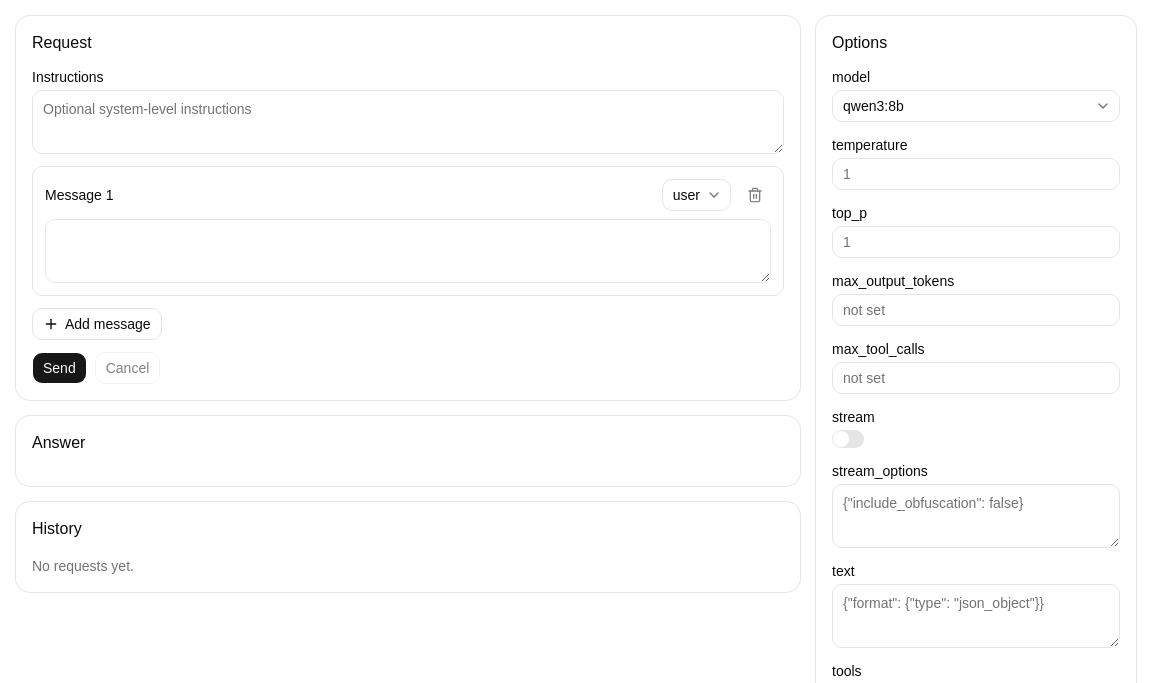
multiple messages with roles are sent as an input list
This screenshot has width=1152, height=683.
Expected: the dropdown named "model" shows "qwen3:8b", [832,90,1120,122]
Type "Hello" into the text box labelled "Message 1" at (408, 251), box [45,219,771,283]
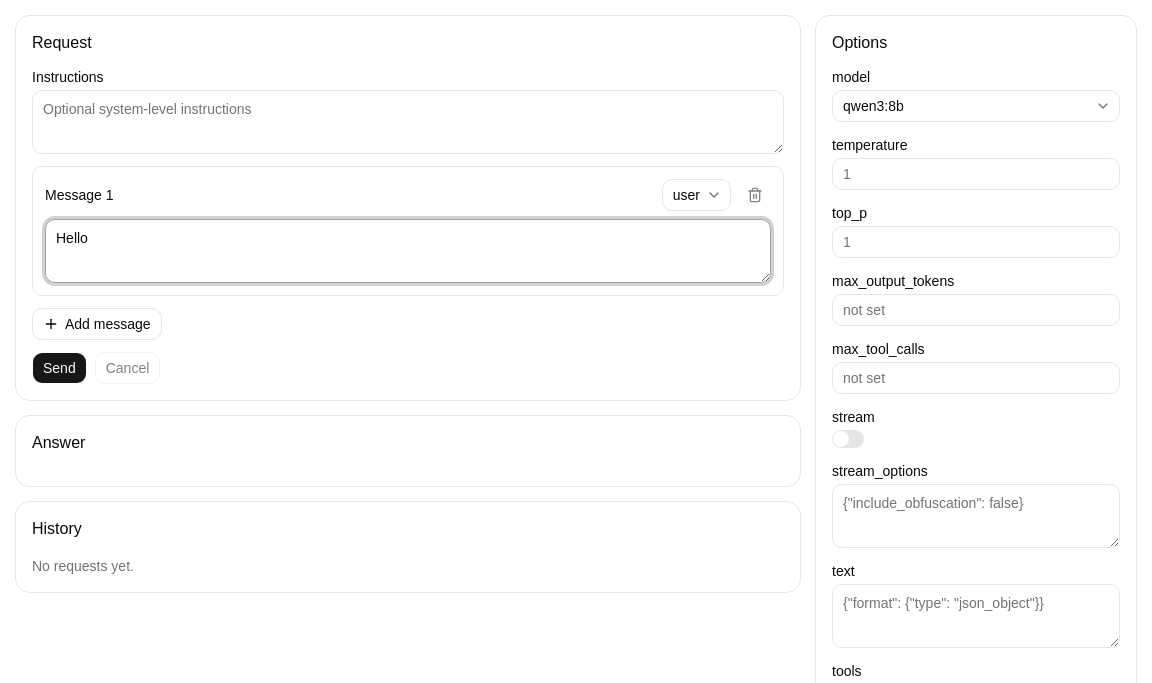
Click the button "Add message" at (97, 324), box [32,308,162,340]
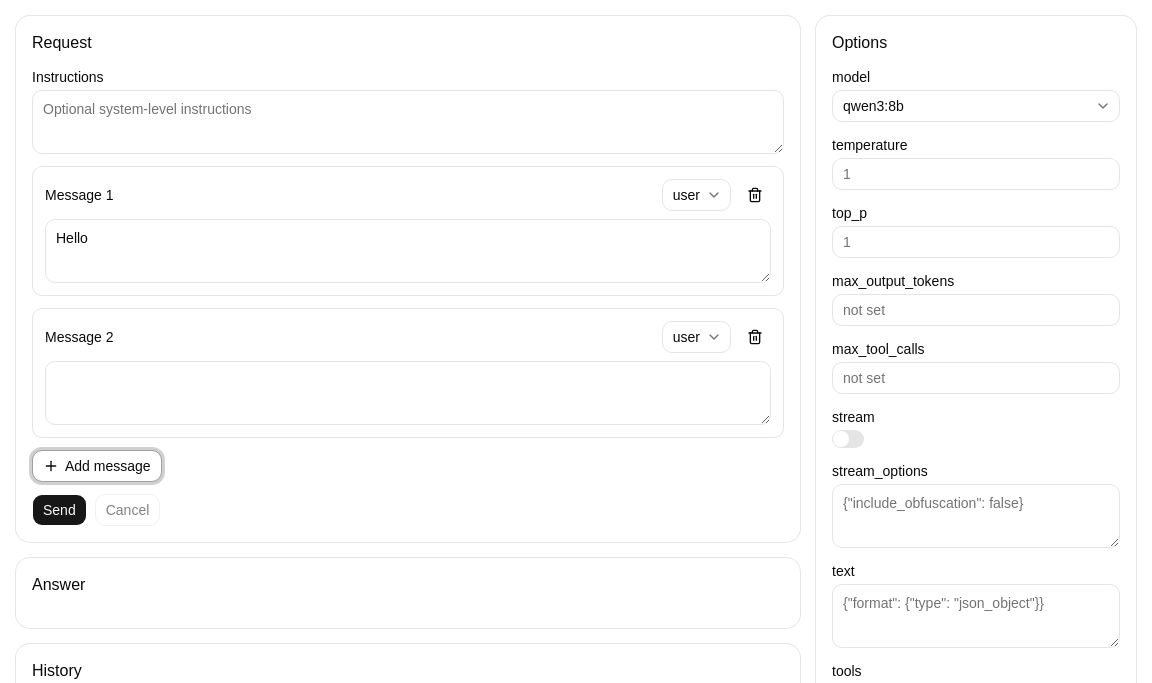
Click the dropdown named "Role of message 2" at (696, 337), box [662,321,731,353]
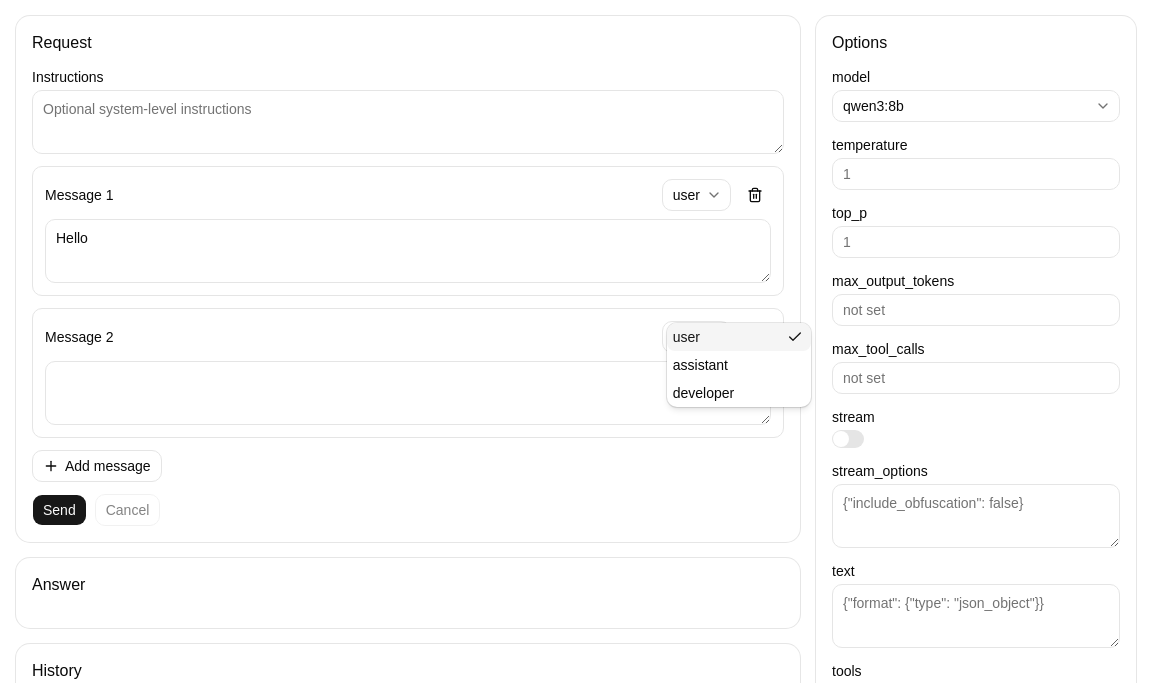
Click the option "developer" at (704, 393), box [673,385,734,401]
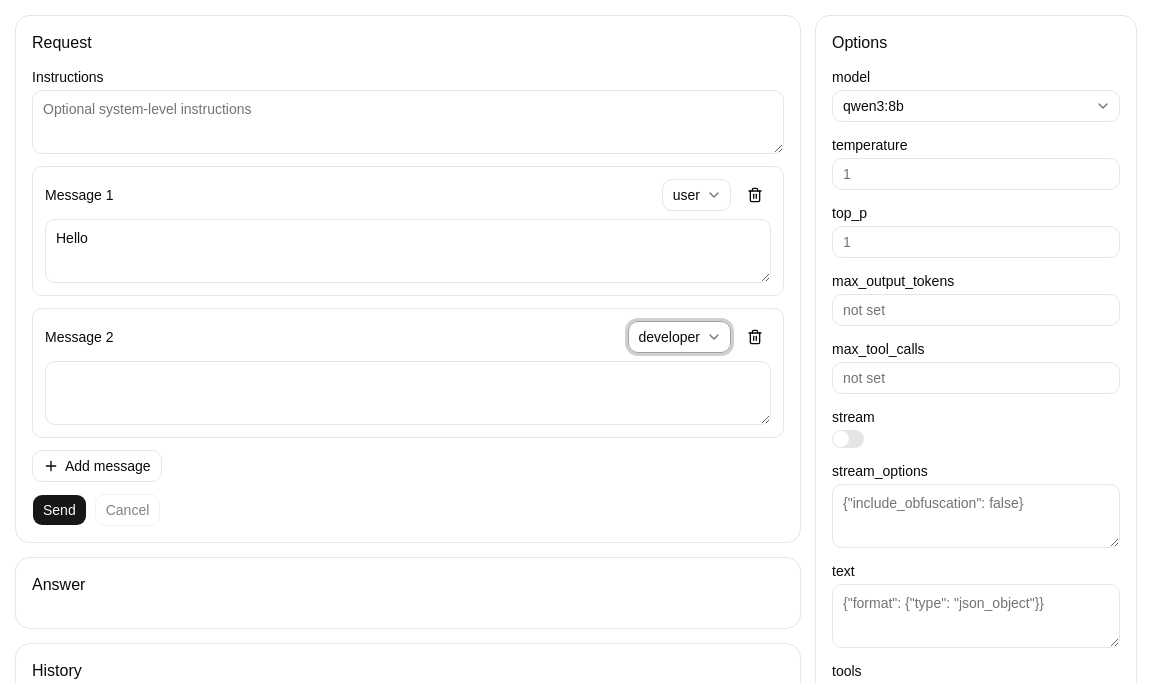
Type "Be terse" into the text box labelled "Message 2" at (408, 393), box [45,361,771,425]
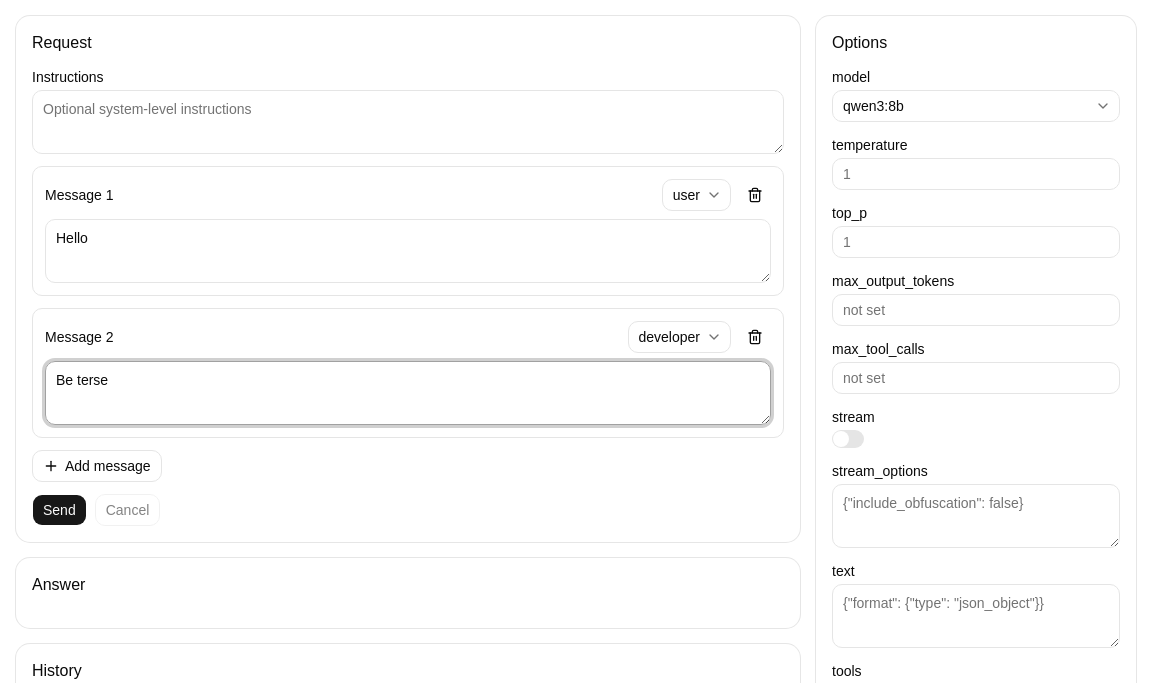
Click the button "Send" at (59, 510), box [32,494,87,526]
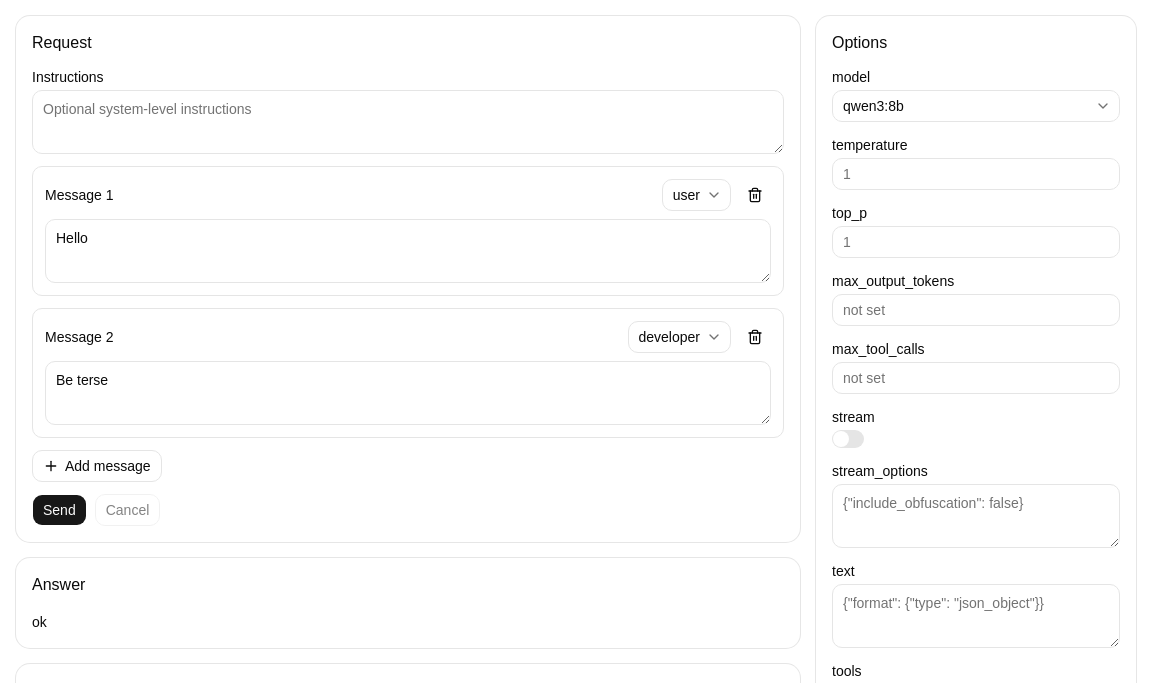
Result: the text "ok" is shown at [32,614,47,630]
